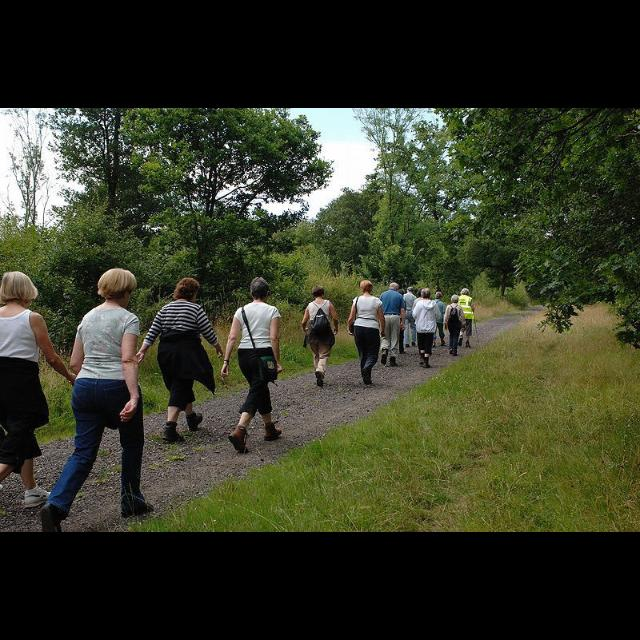head: (1, 273, 33, 311), (104, 271, 134, 309), (178, 280, 200, 304), (250, 278, 272, 302), (312, 286, 326, 300), (361, 281, 374, 295), (421, 288, 431, 300), (390, 283, 400, 293), (418, 288, 428, 298), (462, 288, 472, 298), (436, 293, 444, 301), (452, 296, 460, 304), (398, 290, 406, 298), (408, 287, 414, 295)
person: (0, 268, 84, 512), (128, 276, 226, 448), (216, 276, 286, 456), (343, 277, 387, 387), (300, 284, 342, 388), (377, 282, 407, 368), (411, 287, 442, 369), (443, 294, 467, 360), (388, 288, 408, 358), (413, 286, 431, 362), (457, 288, 478, 352), (402, 284, 418, 348), (432, 292, 450, 348)
